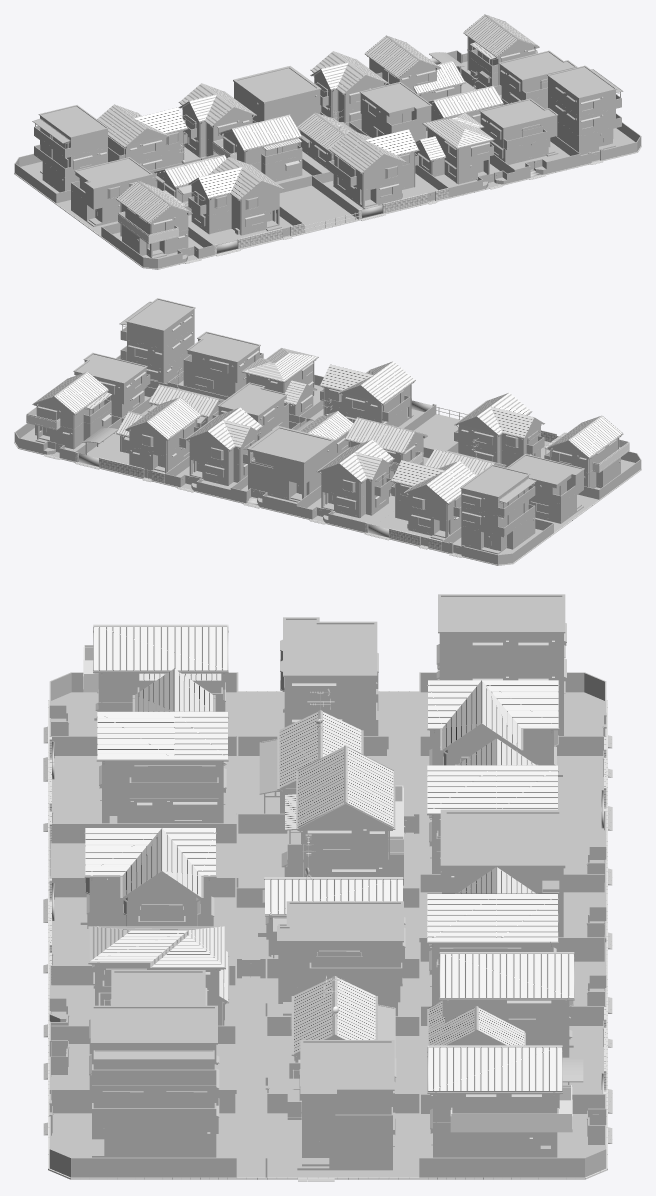
The model's file is Street_D.fbx.
3 views of the same model, one above another, from view 1: azimuth 30°, elevation 25°; view 2: azimuth 150°, elevation 25°; view 3: azimuth 270°, elevation 25° (orthographic). The views are drawn at different scales.
Parts seen in each view (by area): view 1: Street_D; view 2: Street_D; view 3: Street_D.
Boxes of the visible parts, bbox=[...] form: Street_D: bbox=[14, 14, 641, 269]; Street_D: bbox=[14, 298, 641, 565]; Street_D: bbox=[43, 594, 612, 1181].
Size of the model in its own units: 7611 by 850 by 3741.
